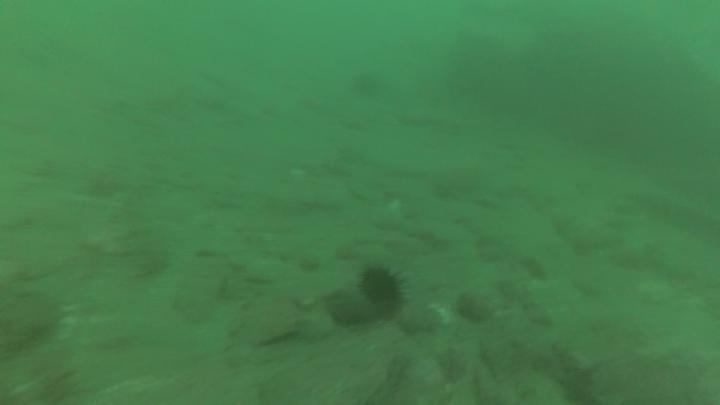echinus: (357, 263, 408, 312), (348, 68, 386, 102)
